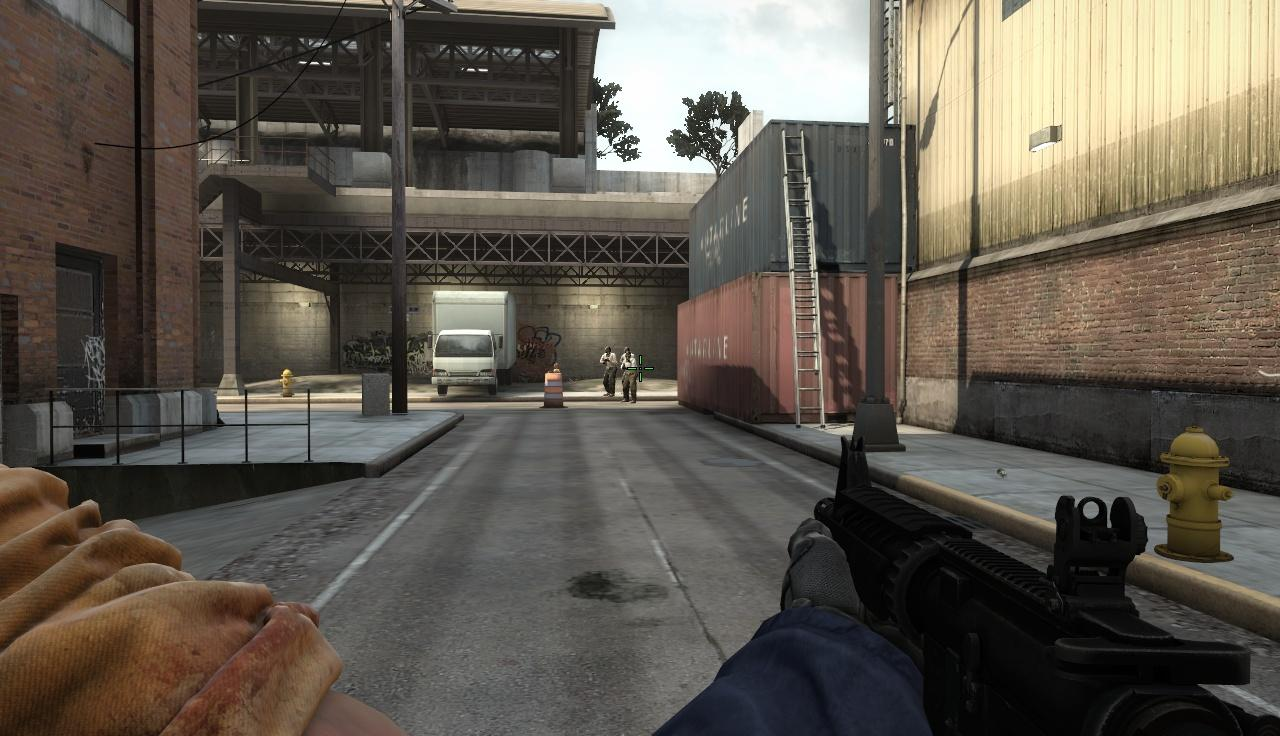rifle: (803, 428, 1280, 731)
tt: (599, 346, 617, 398), (621, 348, 638, 402)
tthead: (625, 352, 632, 361), (605, 347, 611, 356), (624, 347, 630, 353)
